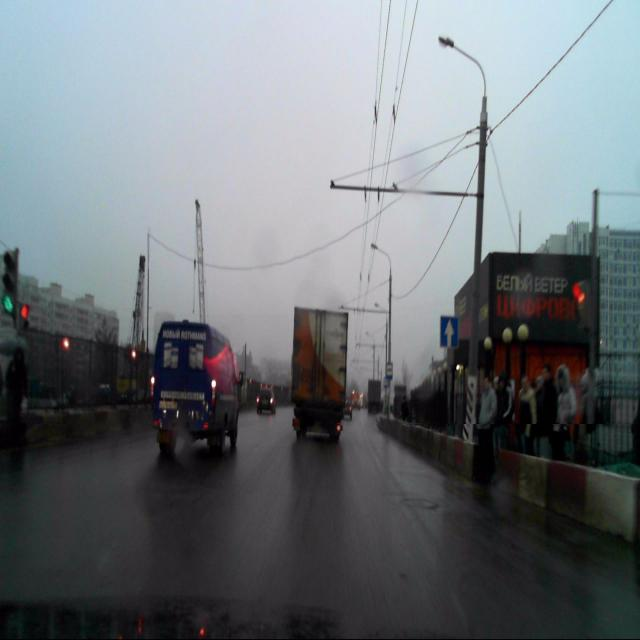road sign: (440, 316, 458, 348)
